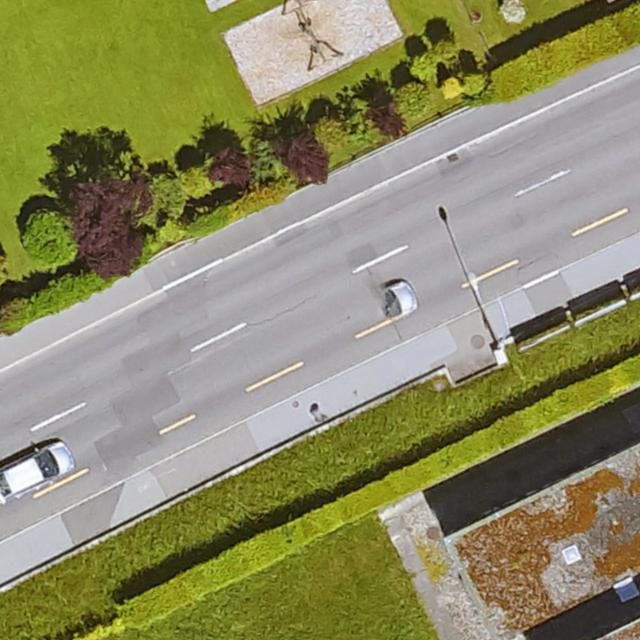tree: (74, 183, 143, 273), (22, 218, 72, 264), (288, 143, 328, 186), (248, 144, 282, 184), (213, 154, 247, 190), (152, 180, 184, 216), (399, 86, 431, 118), (316, 122, 348, 147), (373, 114, 406, 137), (349, 116, 373, 147), (411, 58, 442, 81), (183, 171, 210, 197), (500, 3, 525, 25), (436, 44, 457, 65), (465, 79, 485, 96), (444, 81, 461, 99)
